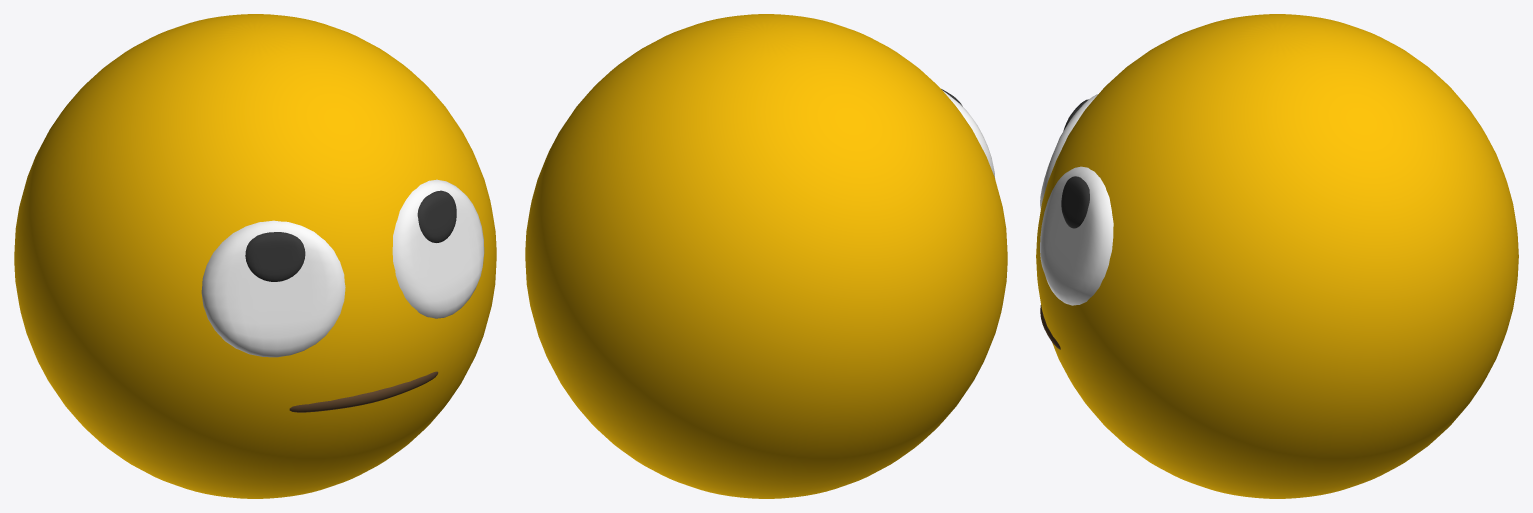
The model's file is Emoticon.glb.
3 views of the same model, side by side, from view 1: azimuth 30°, elevation 25°; view 2: azimuth 150°, elevation 25°; view 3: azimuth 270°, elevation 25° (orthographic).
Visible parts, largest first — view 1: Emoticon 48; view 2: Emoticon 48; view 3: Emoticon 48.
Part boxes in pixels (left/top/right/bottom): Emoticon 48: left=14, top=14, right=496, bottom=498; Emoticon 48: left=525, top=14, right=1007, bottom=498; Emoticon 48: left=1036, top=14, right=1518, bottom=498.
Size of the model in its own units: 6.84 by 6.91 by 6.84.
1 material, 1 textured.
